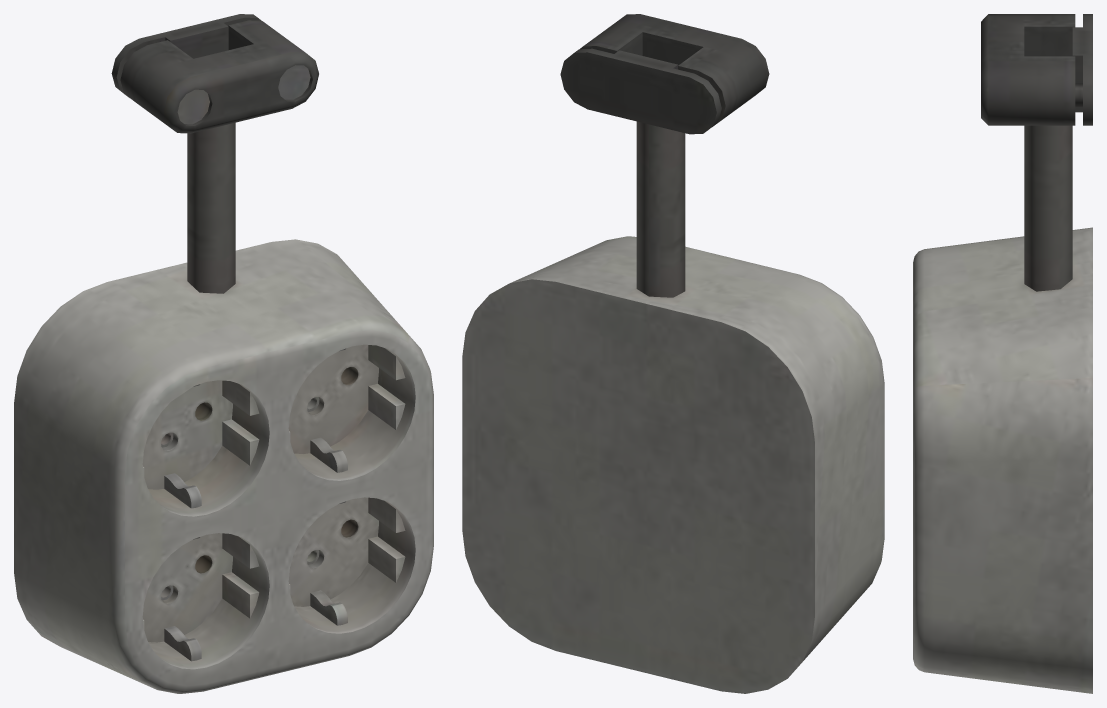
Rendered from cable_plug_4x.gltf.
3 renders of one model, left to right at view 1: azimuth 30°, elevation 25°; view 2: azimuth 150°, elevation 25°; view 3: azimuth 270°, elevation 25°, orthographic.
Visible parts, largest first — view 1: cable_plug_4x; view 2: cable_plug_4x; view 3: cable_plug_4x.
Boxes of the visible parts, box(x1,y1,x2,y2) form: cable_plug_4x: box(14, 14, 433, 693); cable_plug_4x: box(462, 14, 884, 693); cable_plug_4x: box(913, 14, 1092, 693).
Size of the model in its own units: 0.0939 by 0.1542 by 0.0417.
Materials: 1 (1 with a texture image).
